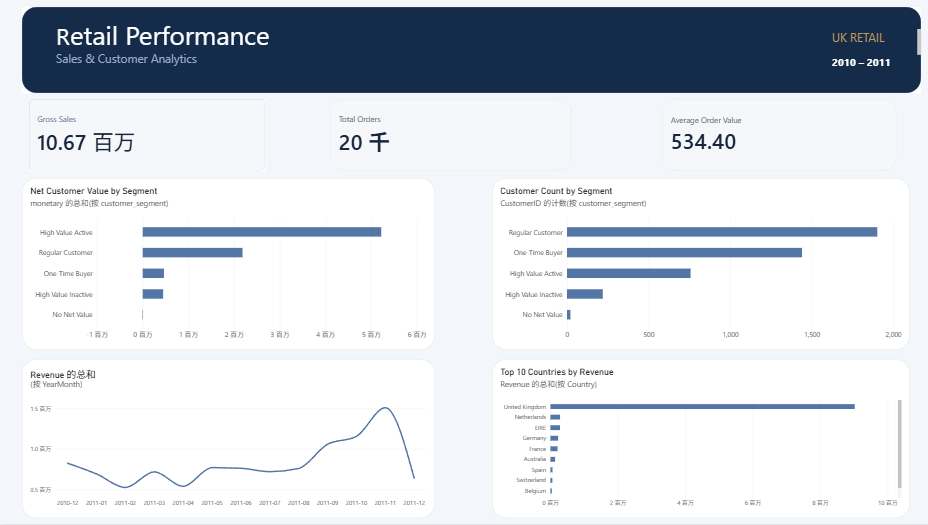

What the dashboard file says about the page in this screenshot:
{"tool":"powerbi","page":{"name":"第 1 页","canvas":[1920,1080],"ordinal":0},"visuals":[{"type":"cardVisual","fields":{"Data":["Sum(retail_sales_202610211658.Revenue)"]},"box":[59.6,205.3,484.6,147.9],"z":0},{"type":"cardVisual","fields":{"Data":["retail_sales_202610211658.Total Orders"]},"box":[677.6,205.3,496.9,147.9],"z":1000},{"type":"cardVisual","fields":{"Data":["retail_sales_202610211658.Average Order Value"]},"box":[1359.4,205.3,480.5,147.9],"z":2000},{"type":"lineChart","fields":{"Category":["retail_sales_202610211658.YearMonth"],"Y":["Sum(retail_sales_202610211658.Revenue)"]},"box":[45.2,739.3,848.1,326.5],"z":3000},{"type":"clusteredBarChart","title":"Top 10 Countries by Revenue","fields":{"Category":["retail_sales_202610211658.Country"],"Y":["Sum(retail_sales_202610211658.Revenue)"]},"box":[1010.3,739.3,858.4,326.5],"z":4000},{"type":"clusteredBarChart","title":"Net Customer Value by Segment","fields":{"Category":["customer_rfm_202610211749.customer_segment"],"Y":["Sum(customer_rfm_202610211749.monetary)"]},"box":[45.2,367.6,848.1,353.2],"z":5000},{"type":"clusteredBarChart","title":"Customer Count by Segment","fields":{"Category":["customer_rfm_202610211749.customer_segment"],"Y":["Count(customer_rfm_202610211749.CustomerID)"]},"box":[1010.3,367.6,858.4,353.2],"z":6000},{"type":"shape","box":[45.2,16.4,1846.1,176.6],"z":7000},{"type":"textbox","box":[115,37,651,156.1],"z":7001},{"type":"textbox","box":[115,104.7,371.7,63.7],"z":7002},{"type":"textbox","box":[1708.5,61.6,182.8,76],"z":7003},{"type":"textbox","box":[1708.5,115,182.8,53.4],"z":7004}]}

Visuals, with their boxes in screenshot pixels (x1, y1, x2, y2), scaled from the page's 1920x1080 canvas onto the 928x525 screenshot:
cardVisual - Sum(retail_sales_202610211658.Revenue): <bbox>29, 100, 263, 172</bbox>
cardVisual - retail_sales_202610211658.Total Orders: <bbox>328, 100, 568, 172</bbox>
cardVisual - retail_sales_202610211658.Average Order Value: <bbox>657, 100, 889, 172</bbox>
lineChart - retail_sales_202610211658.YearMonth x Sum(retail_sales_202610211658.Revenue): <bbox>22, 359, 432, 518</bbox>
"Top 10 Countries by Revenue" clusteredBarChart: <bbox>488, 359, 903, 518</bbox>
"Net Customer Value by Segment" clusteredBarChart: <bbox>22, 179, 432, 350</bbox>
"Customer Count by Segment" clusteredBarChart: <bbox>488, 179, 903, 350</bbox>
shape: <bbox>22, 8, 914, 94</bbox>
textbox: <bbox>56, 18, 370, 94</bbox>
textbox: <bbox>56, 51, 235, 82</bbox>
textbox: <bbox>826, 30, 914, 67</bbox>
textbox: <bbox>826, 56, 914, 82</bbox>
